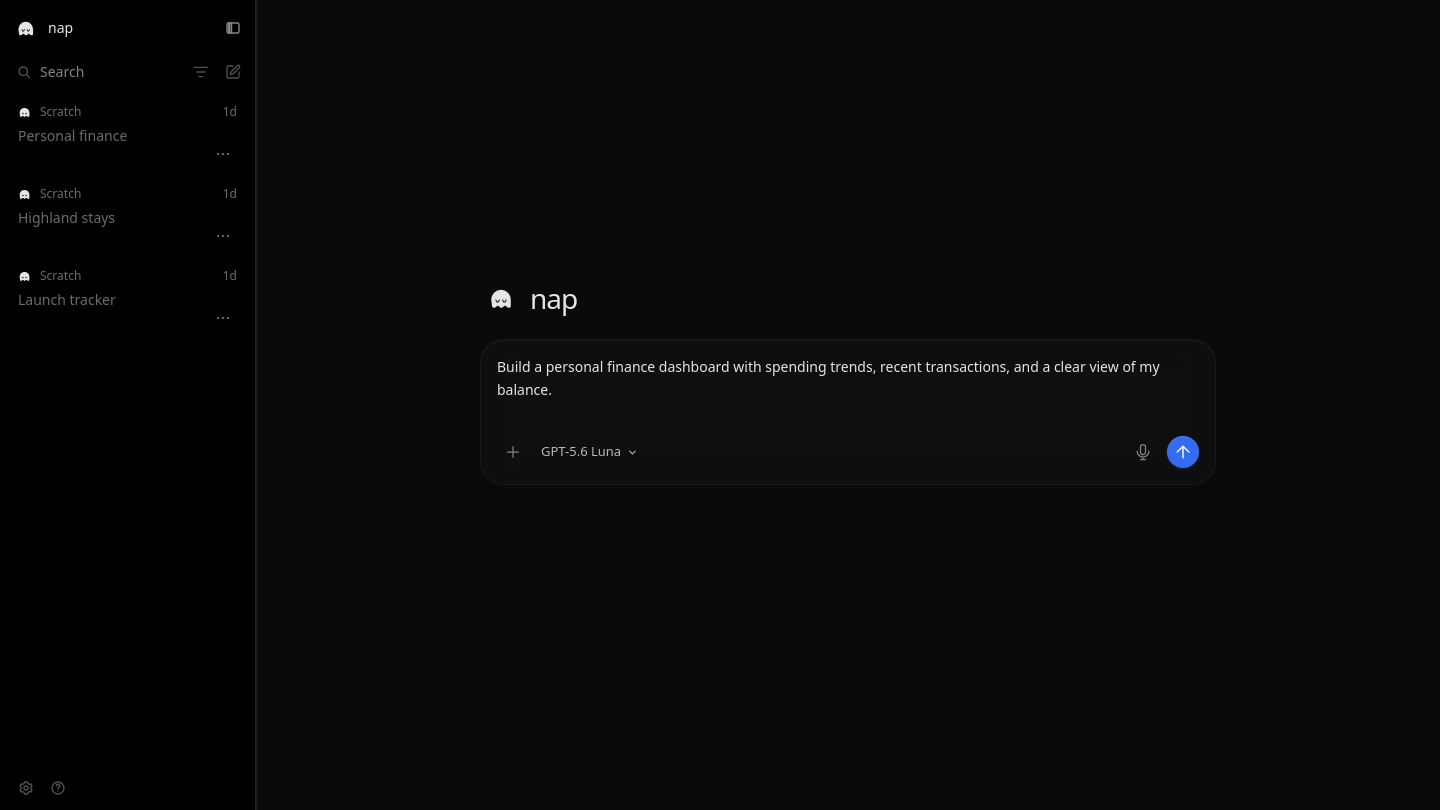
Test case: the native landing demo's sidebar preferences › keeps demo collapse and expansion out of the real app's preferences
Click the button named "Collapse sidebar".
click(233, 28)  # box [220, 14, 246, 42]
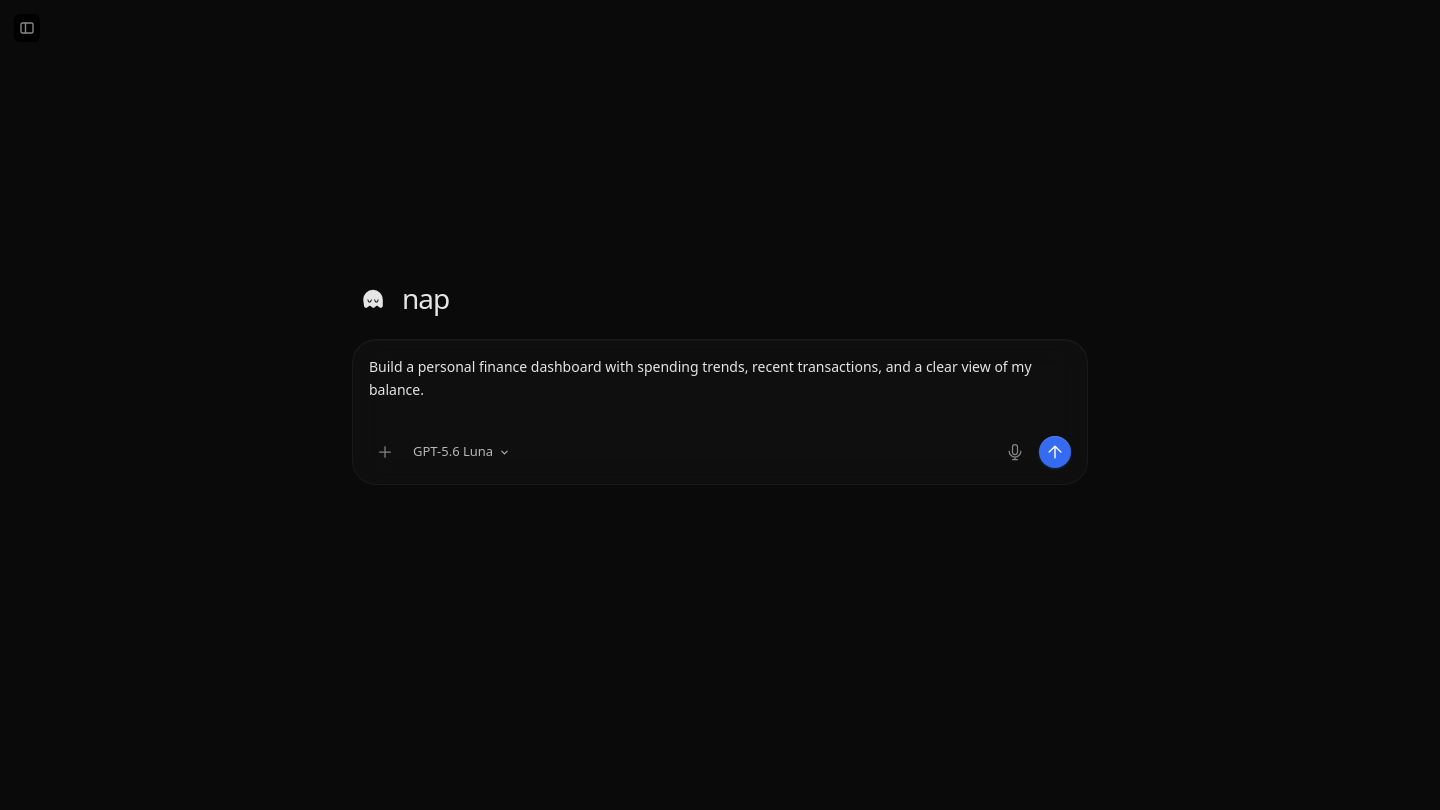
expect the button named "Expand sidebar" is shown: met
Click the button named "Expand sidebar".
click(27, 28)  # box [14, 14, 40, 42]
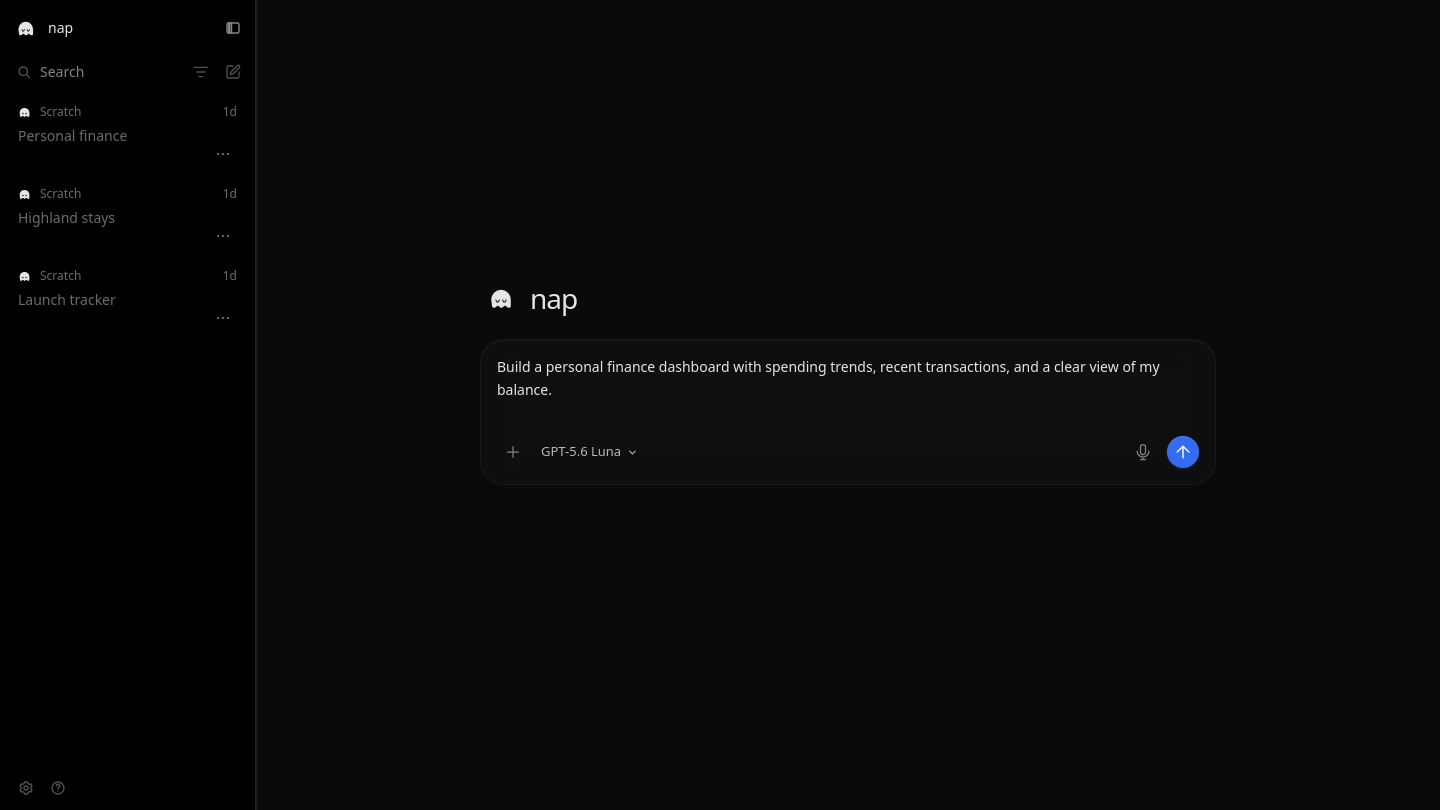
expect the element named "Sidebar width" is shown: met, box [253, 0, 260, 809]
